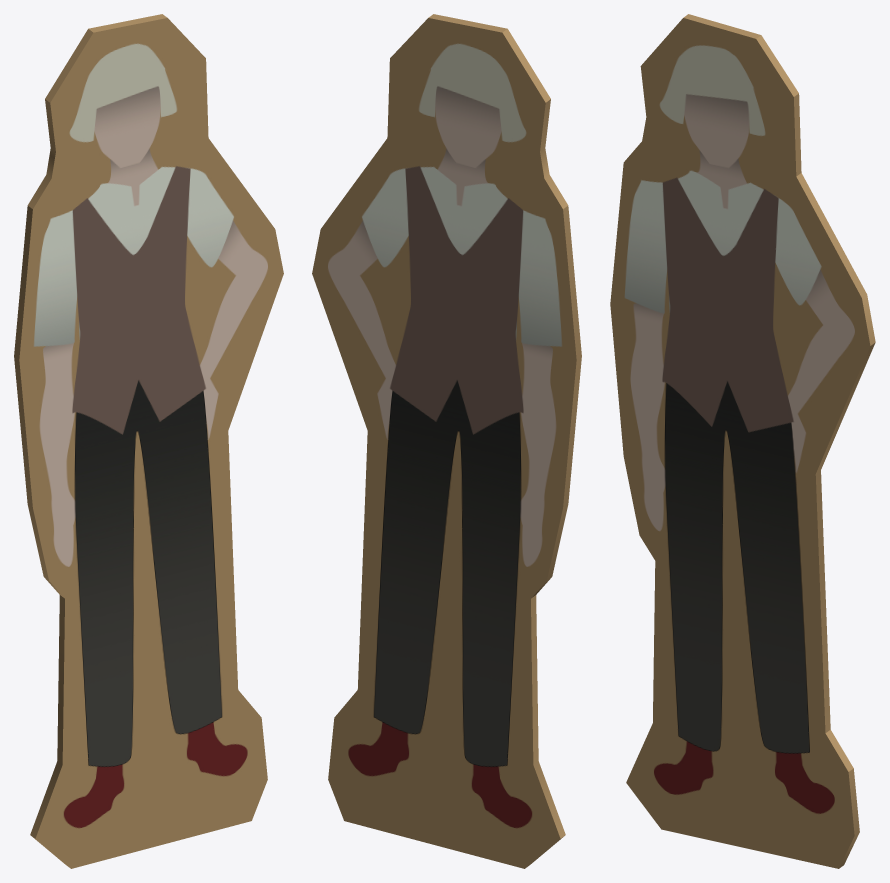
The model's file is Customer.fbx.
3 views of the same model, side by side, from view 1: azimuth 30°, elevation 25°; view 2: azimuth 150°, elevation 25°; view 3: azimuth 330°, elevation 25° (orthographic).
Visible parts, largest first — view 1: Customer_Mesh; view 2: Customer_Mesh; view 3: Customer_Mesh.
Part boxes in pixels (<box>): Customer_Mesh: <box>14,14,283,868</box>; Customer_Mesh: <box>312,14,581,868</box>; Customer_Mesh: <box>610,14,875,868</box>.
Size of the model in its own units: 3.95 by 11.87 by 0.1378.
